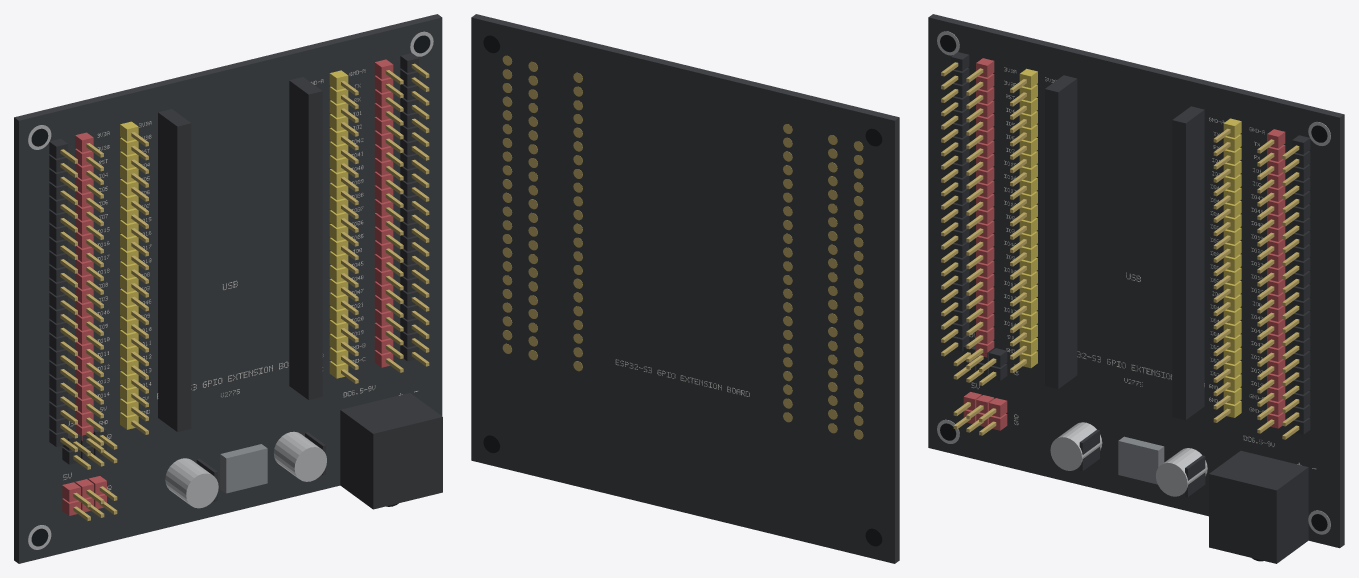
Rendered from aitrip-esp32-s3-44pin-expansion-board-b0h336qrxx.glb.
The picture shows the model from 3 angles, left to right: view 1: azimuth 30°, elevation 25°; view 2: azimuth 150°, elevation 25°; view 3: azimuth 330°, elevation 25°; orthographic projection. The views are drawn at different scales.
Parts seen in each view (by area): view 1: body:pcb, connector:controller-j1-1x22:housing, connector:controller-j3-1x22:housing, connector:dc-barrel-5.5x2.1:body, component:regulator, component:electrolytic-capacitor:1, component:electrolytic-capacitor:2; view 2: body:pcb; view 3: body:pcb, connector:controller-j3-1x22:housing, connector:controller-j1-1x22:housing, connector:dc-barrel-5.5x2.1:body, component:regulator, component:electrolytic-capacitor:1, component:electrolytic-capacitor:2, component:electrolytic-capacitor:2:stripe, component:electrolytic-capacitor:1:stripe.
Part boxes in pixels (x1,y1,x2,y2): body:pcb: [14, 14, 442, 563]; connector:controller-j1-1x22:housing: [158, 109, 191, 431]; connector:controller-j3-1x22:housing: [289, 77, 322, 399]; connector:dc-barrel-5.5x2.1:body: [340, 393, 442, 509]; component:regulator: [220, 444, 267, 493]; component:electrolytic-capacitor:1: [165, 458, 218, 508]; component:electrolytic-capacitor:2: [273, 431, 326, 481]; body:pcb: [471, 14, 899, 563]; body:pcb: [928, 14, 1344, 548]; connector:controller-j3-1x22:housing: [1172, 106, 1204, 420]; connector:controller-j1-1x22:housing: [1045, 75, 1077, 388]; connector:dc-barrel-5.5x2.1:body: [1209, 450, 1308, 563]; component:regulator: [1118, 436, 1164, 484]; component:electrolytic-capacitor:1: [1050, 422, 1102, 470]; component:electrolytic-capacitor:2: [1156, 448, 1207, 496]; component:electrolytic-capacitor:2:stripe: [1185, 455, 1205, 496]; component:electrolytic-capacitor:1:stripe: [1079, 429, 1099, 471].
Size of the model in its own units: 0.082 by 0.0851 by 0.0127.
